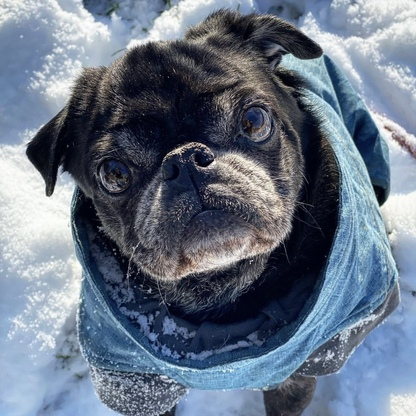Pug: (22, 1, 398, 416)
